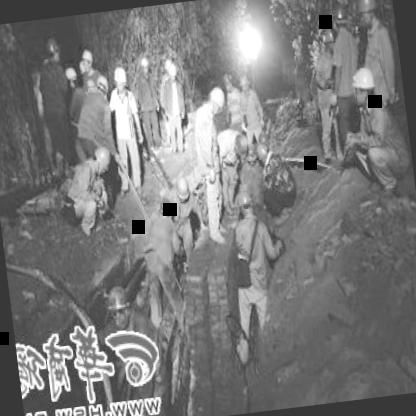helmet: (104, 272, 132, 325), (350, 64, 378, 107), (350, 0, 383, 32), (88, 140, 114, 175), (233, 184, 258, 218), (206, 82, 228, 116), (109, 61, 130, 96), (91, 70, 112, 104), (170, 173, 192, 205), (329, 0, 350, 32), (229, 130, 250, 160), (318, 24, 338, 53), (243, 140, 261, 170), (155, 194, 176, 219), (254, 138, 272, 166), (136, 54, 154, 80), (78, 44, 93, 75), (218, 69, 234, 92)
